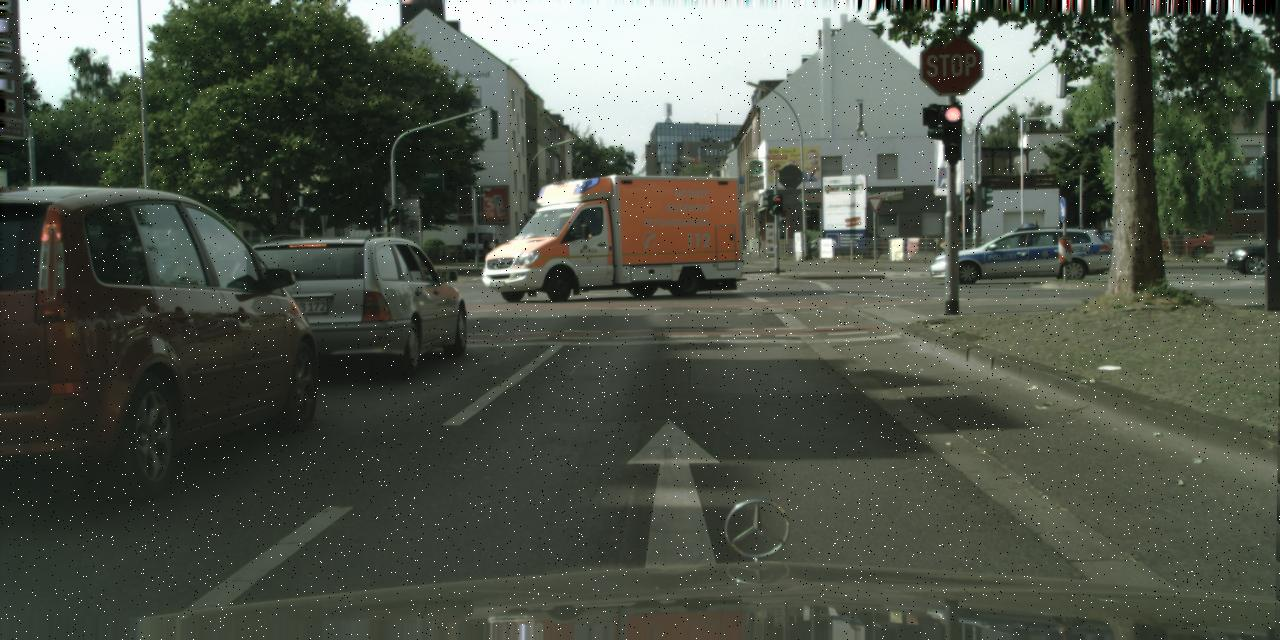ped: (1025, 220, 1041, 261), (490, 238, 500, 260), (482, 239, 489, 260)
